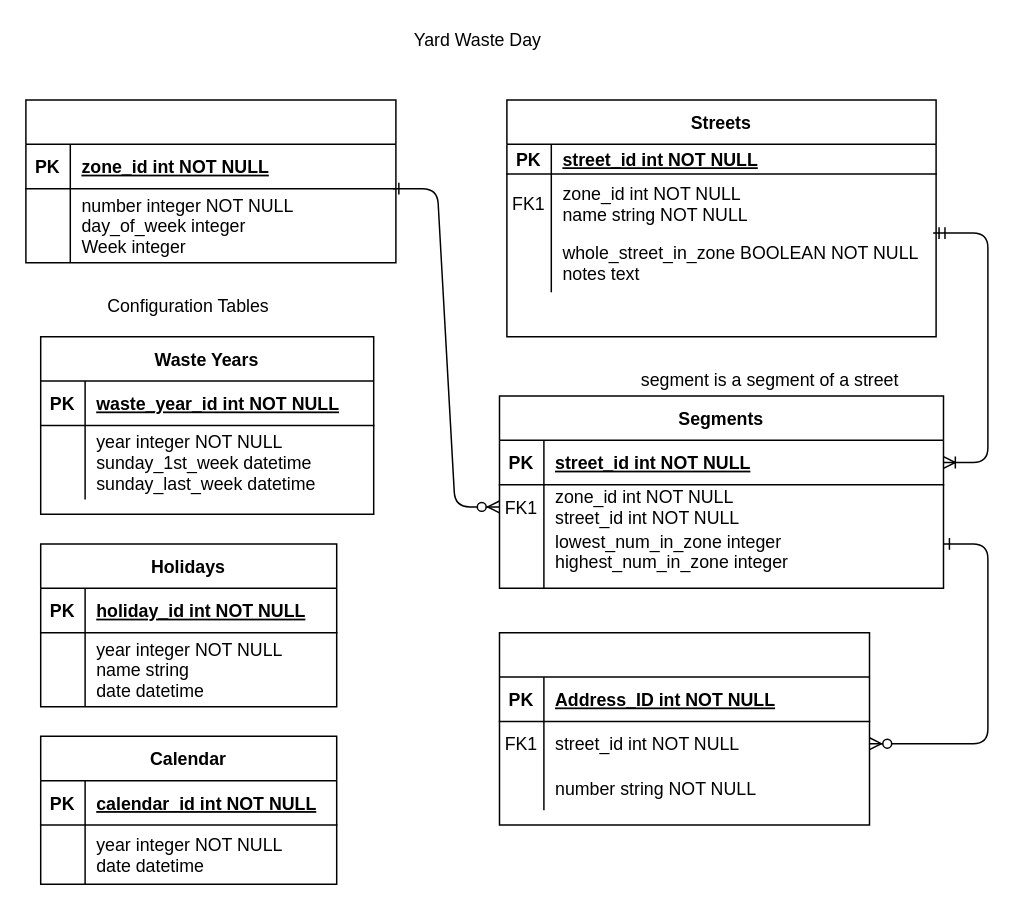
This 1027x910 diagram has some shape labels left out. Here are the shapes that lost their labels. From the top down, the box of each, then its label:
(24, 98, 396, 263): Zones
(498, 631, 870, 825): Addresses
